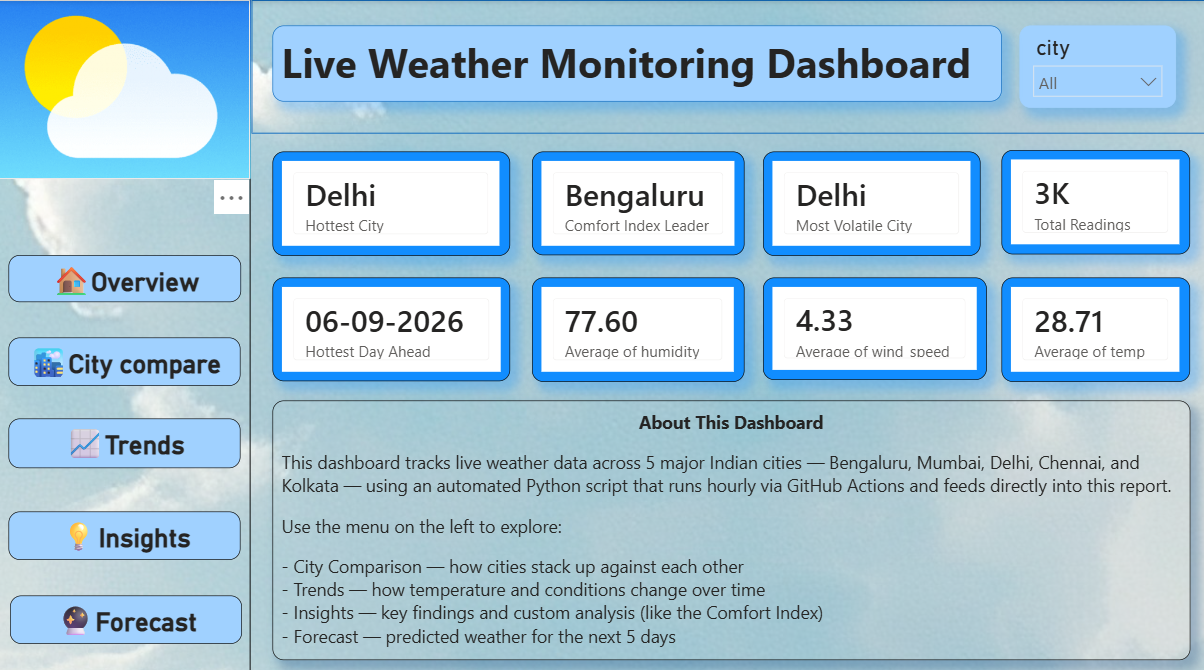

This screenshot's page, from the dashboard's own definition file:
{"tool":"powerbi","page":{"name":"overviews ","canvas":[1280,720],"ordinal":0},"visuals":[{"type":"shape","box":[268.3,0,1012.9,141.7],"z":0},{"type":"shape","box":[0,0,267.9,712.5],"z":1000},{"type":"cardVisual","fields":{"Data":["Avg(weather_log.temp)"]},"box":[1064.3,294.6,200,110.7],"z":2000},{"type":"cardVisual","fields":{"Data":["Avg(weather_log.humidity)"]},"box":[566.1,294.6,225,110.7],"z":3000},{"type":"slicer","fields":{"Values":["weather_log.city"]},"box":[1083.9,26.8,166.1,87.5],"z":4000},{"type":"cardVisual","fields":{"Data":["Avg(weather_log.wind_speed)"]},"box":[810.7,294.6,237.5,108.9],"z":5000},{"type":"textbox","box":[291.1,26.8,773.2,80.4],"z":6000},{"type":"actionButton","title":"\t🏠Overview","box":[10.7,269.6,246.4,50],"z":7000},{"type":"actionButton","title":"🏙️City compare","box":[11.3,357.2,245.7,51],"z":8000},{"type":"actionButton","title":"📈Trends ","box":[11.3,444.1,245.7,52.9],"z":9000},{"type":"actionButton","title":"💡Insights","box":[11.3,542.4,245.7,51],"z":10000},{"type":"image","box":[0,0,267.9,189.3],"z":11000},{"type":"actionButton","title":"🔮Forecast","box":[12,632,245.7,51],"z":12000},{"type":"cardVisual","fields":{"Data":["forecast_log.Hottest Forecast Day"]},"box":[291.1,294.6,252,110],"z":13000},{"type":"cardVisual","fields":{"Data":["weather_log.Total Readings"]},"box":[1064.3,158.9,200,110.7],"z":14000},{"type":"cardVisual","fields":{"Data":["weather_log.Comfort Index Leader"]},"box":[566.1,160.7,225,110],"z":15000},{"type":"cardVisual","fields":{"Data":["weather_log.Hottest City"]},"box":[291.1,160.7,251.8,110.7],"z":16000},{"type":"cardVisual","fields":{"Data":["weather_log.Most Volatile City"]},"box":[810.7,160.7,230.4,110.7],"z":17000},{"type":"textbox","box":[291.1,425,973.2,275],"z":18000}]}

Visuals, with their boxes in screenshot pixels (x1, y1, x2, y2), scaled from the page's 1280x720 canvas onto the 1204x670 screenshot:
shape: 252/0/1203/132
shape: 0/0/252/663
cardVisual - Avg(weather_log.temp): 1001/274/1189/377
cardVisual - Avg(weather_log.humidity): 532/274/744/377
slicer - weather_log.city: 1020/25/1176/106
cardVisual - Avg(weather_log.wind_speed): 763/274/986/375
textbox: 274/25/1001/100
"	🏠Overview" actionButton: 10/251/242/297
"🏙️City compare" actionButton: 11/332/242/380
"📈Trends " actionButton: 11/413/242/462
"💡Insights" actionButton: 11/505/242/552
image: 0/0/252/176
"🔮Forecast" actionButton: 11/588/242/636
cardVisual - forecast_log.Hottest Forecast Day: 274/274/511/377
cardVisual - weather_log.Total Readings: 1001/148/1189/251
cardVisual - weather_log.Comfort Index Leader: 532/150/744/252
cardVisual - weather_log.Hottest City: 274/150/511/253
cardVisual - weather_log.Most Volatile City: 763/150/979/253
textbox: 274/395/1189/651
